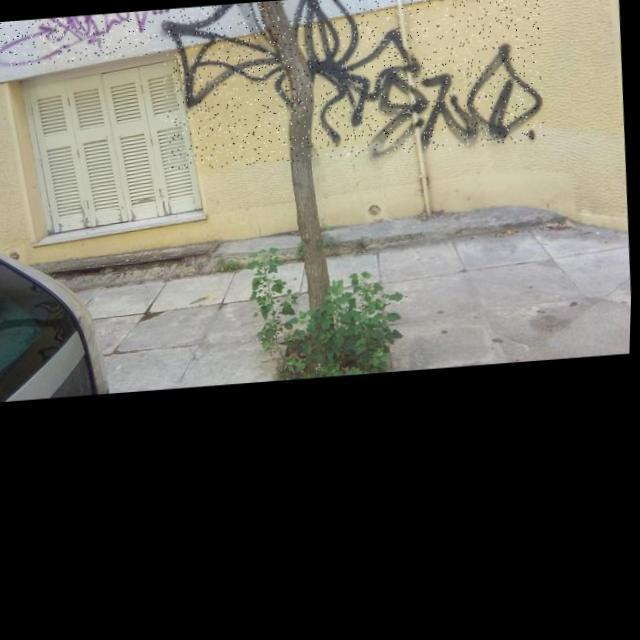-: (157, 0, 548, 171), (0, 9, 173, 67)
